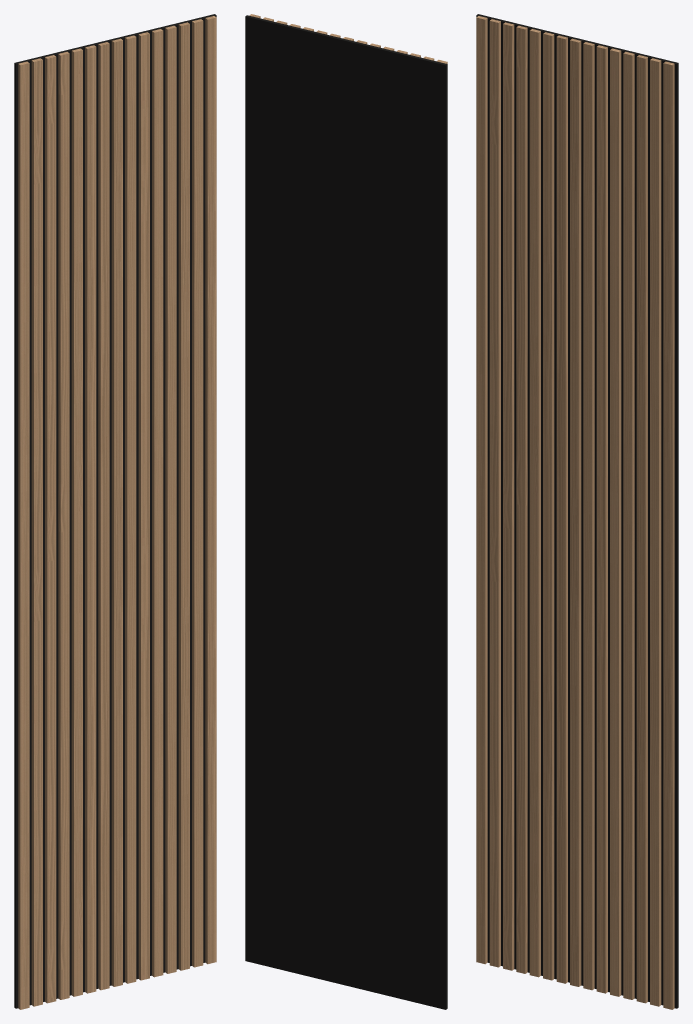
File: panel-classic-natural-oak.glb
The picture shows the model from 3 angles, left to right: view 1: azimuth 30°, elevation 25°; view 2: azimuth 150°, elevation 25°; view 3: azimuth 330°, elevation 25°; orthographic projection.
Parts seen in each view (by area): view 1: Lamellen-Wandpaneel classic natural-oak; view 2: Lamellen-Wandpaneel classic natural-oak; view 3: Lamellen-Wandpaneel classic natural-oak.
Boxes of the visible parts, bbox=[...] form: Lamellen-Wandpaneel classic natural-oak: bbox=[14, 14, 216, 1009]; Lamellen-Wandpaneel classic natural-oak: bbox=[245, 14, 447, 1009]; Lamellen-Wandpaneel classic natural-oak: bbox=[476, 14, 678, 1009].
Bounding box in the file's own units: 0.6 × 2.7 × 0.021.
2 materials, 1 textured.
